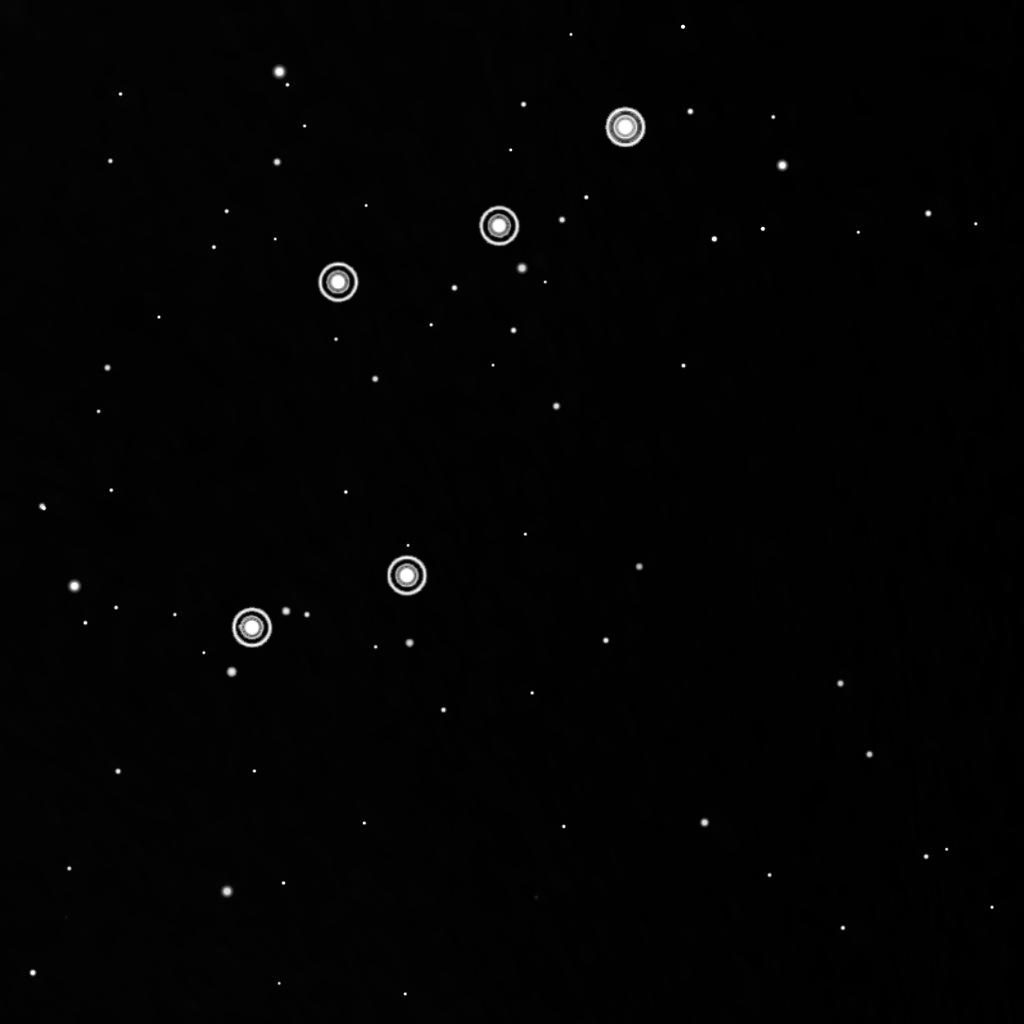lyra: (228, 98, 649, 656)
